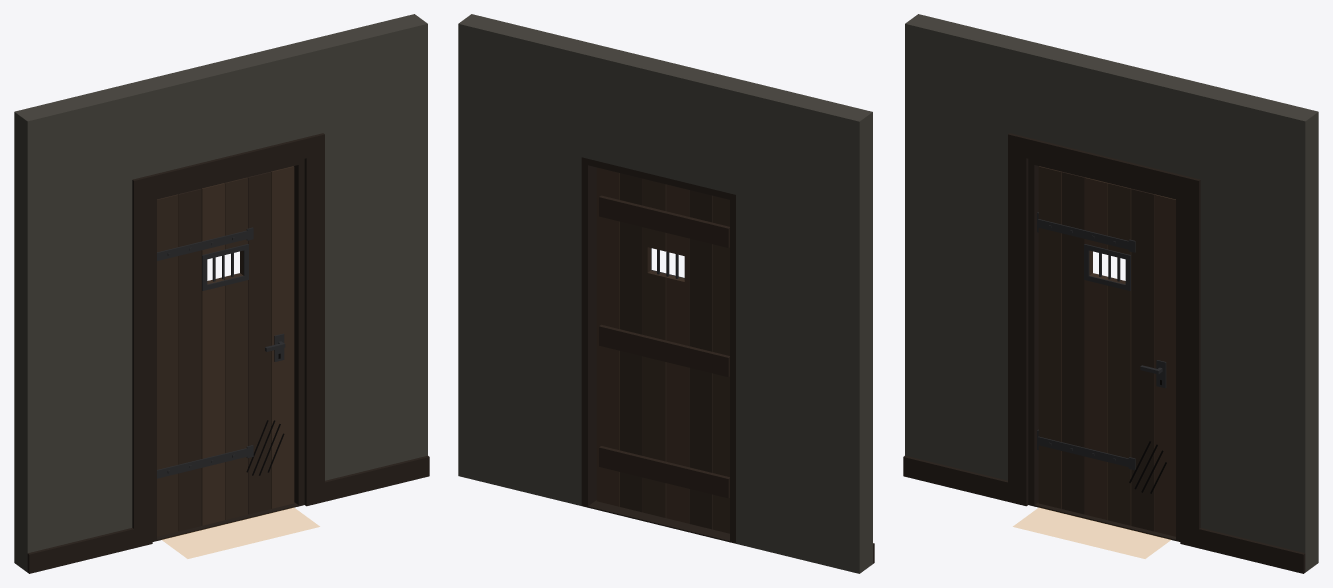
The model's file is ward_door.glb.
3 renders of one model, left to right at view 1: azimuth 30°, elevation 25°; view 2: azimuth 150°, elevation 25°; view 3: azimuth 330°, elevation 25°, orthographic.
Parts seen in each view (by area): view 1: Wall, Door_Leaf, DoorFrame, LightLeak_Under; view 2: Wall, Door_Leaf, DoorFrame; view 3: Wall, Door_Leaf, DoorFrame, LightLeak_Under.
Boxes of the visible parts, bbox=[...] form: Wall: bbox=[14, 14, 427, 572]; Door_Leaf: bbox=[157, 166, 294, 536]; DoorFrame: bbox=[27, 133, 429, 573]; LightLeak_Under: bbox=[162, 507, 319, 558]; Wall: bbox=[458, 14, 872, 573]; Door_Leaf: bbox=[596, 167, 729, 533]; DoorFrame: bbox=[581, 157, 874, 563]; Wall: bbox=[905, 14, 1318, 572]; Door_Leaf: bbox=[1037, 166, 1175, 536]; DoorFrame: bbox=[903, 133, 1305, 573]; LightLeak_Under: bbox=[1013, 507, 1170, 558].
Size of the model in its own units: 2.6 by 2.8 by 0.445.
